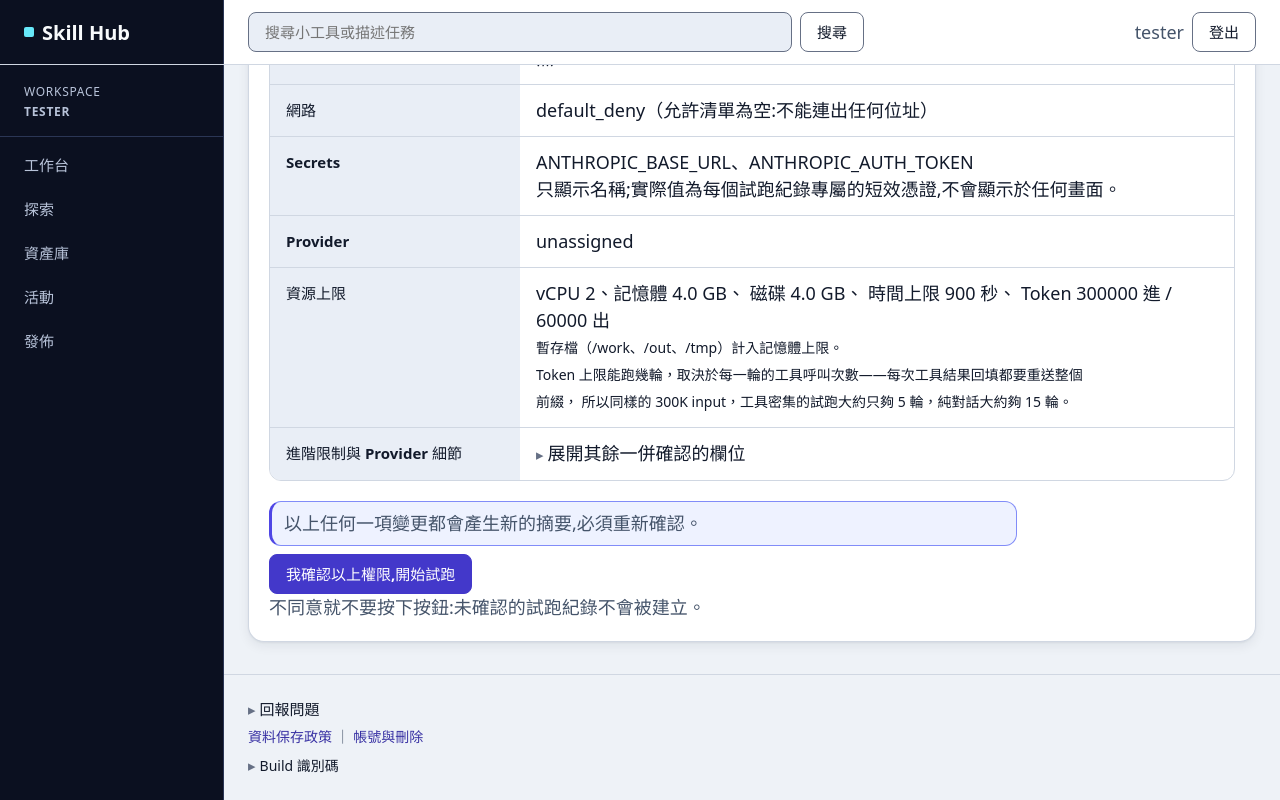
Test: 02:TEST-005 confirming sends the hash that was shown, then starts the run
(page scrolled)
What coordinates should you click on to do the following:
click the button "我確認以上權限,開始試跑"
I would click on:
 (371, 574)
Its box is [269,554,472,594].
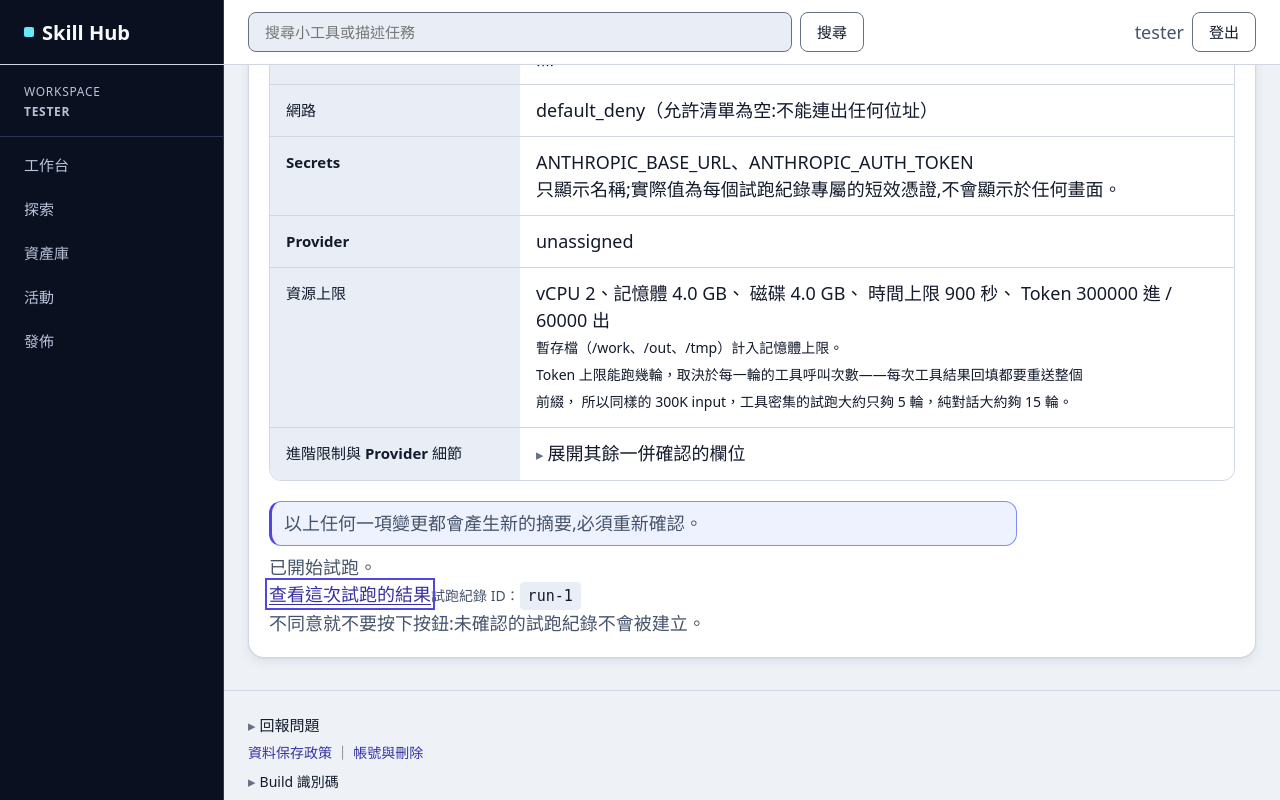
Check: the message "已開始試跑。" is shown, box [269,554,377,578]
